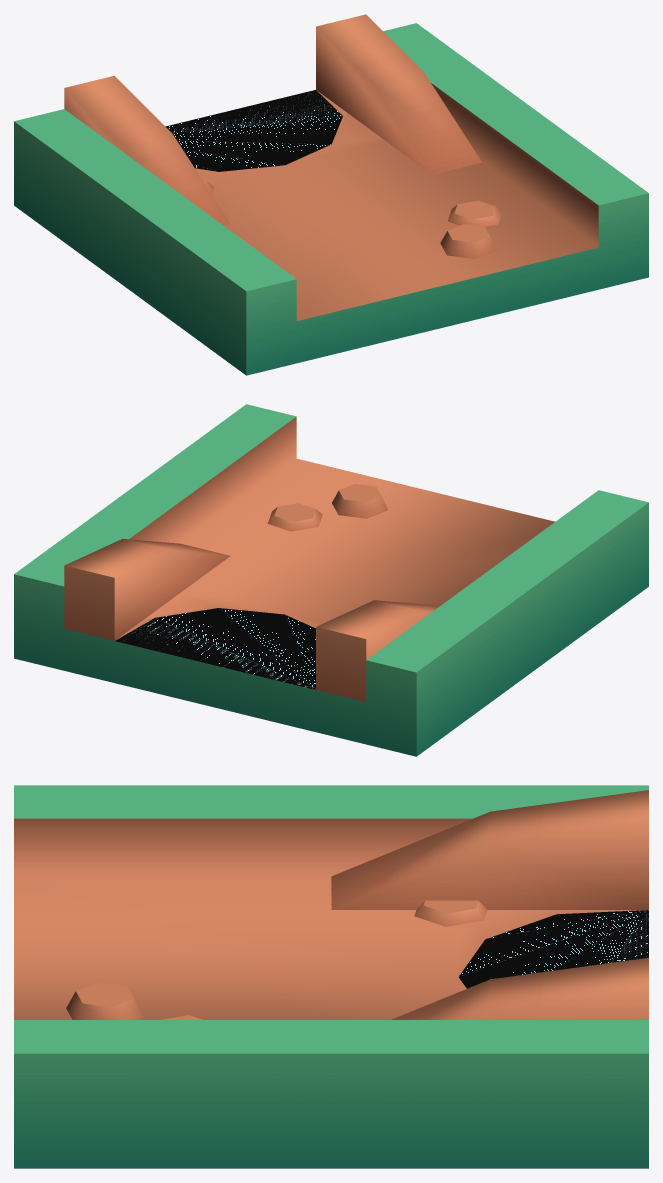
File: kenney-tower-defense-tile-river.glb
3 renders of one model, top to bottom at view 1: azimuth 30°, elevation 25°; view 2: azimuth 150°, elevation 25°; view 3: azimuth 270°, elevation 25°, orthographic. The views are drawn at different scales.
Visible parts, largest first — view 1: tile-river-transition; view 2: tile-river-transition; view 3: tile-river-transition.
Boxes of the visible parts, x1,y1,x2,y2 form: tile-river-transition: (14,14,648,375); tile-river-transition: (14,404,648,756); tile-river-transition: (14,785,648,1168).
Size of the model in its own units: 1 by 0.25 by 1.
1 material, 1 textured.
